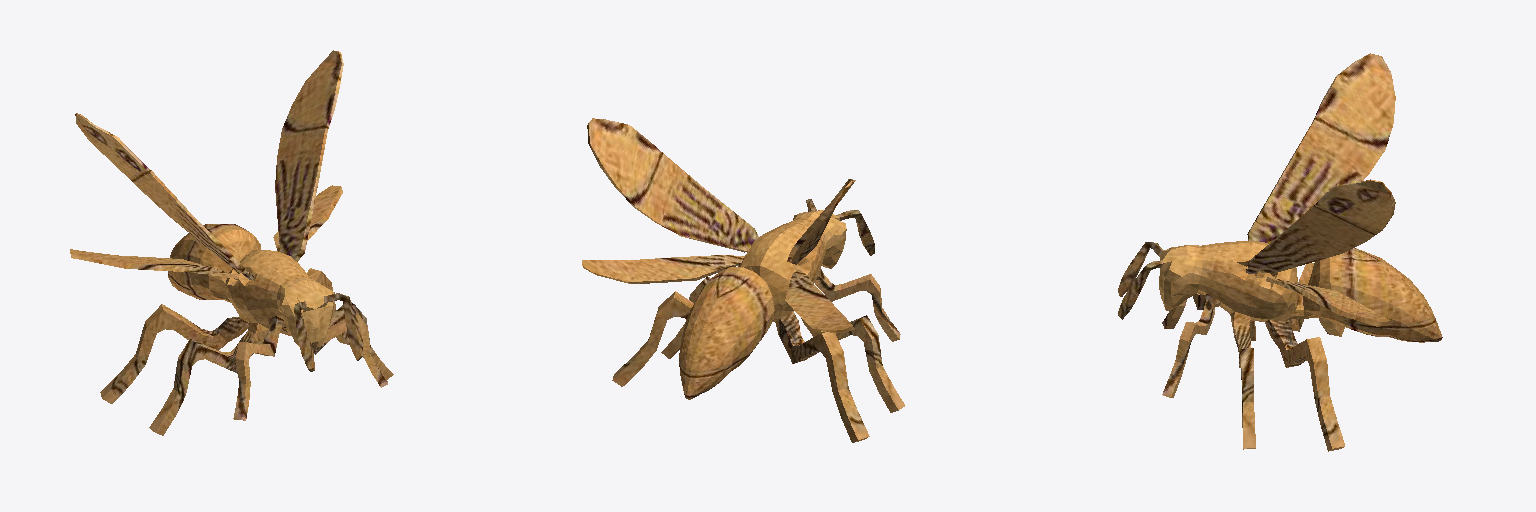
The picture shows the model from 3 angles: view 1: azimuth 30°, elevation 25°; view 2: azimuth 150°, elevation 25°; view 3: azimuth 270°, elevation 25°; orthographic projection.
Parts seen in each view (by area): view 1: bado1:wasp, bado1:polySurface2; view 2: bado1:wasp, bado1:polySurface2; view 3: bado1:wasp, bado1:polySurface2.
Boxes of the visible parts, x1=… form: bado1:wasp: x1=100, y1=224, x2=393, y2=435; bado1:polySurface2: x1=70, y1=50, x2=343, y2=279; bado1:wasp: x1=612, y1=199, x2=904, y2=442; bado1:polySurface2: x1=582, y1=118, x2=855, y2=332; bado1:wasp: x1=1118, y1=241, x2=1442, y2=451; bado1:polySurface2: x1=1246, y1=53, x2=1395, y2=326.
Size of the model in its own units: 6.68 by 6.54 by 6.91.
2 materials, 1 textured.